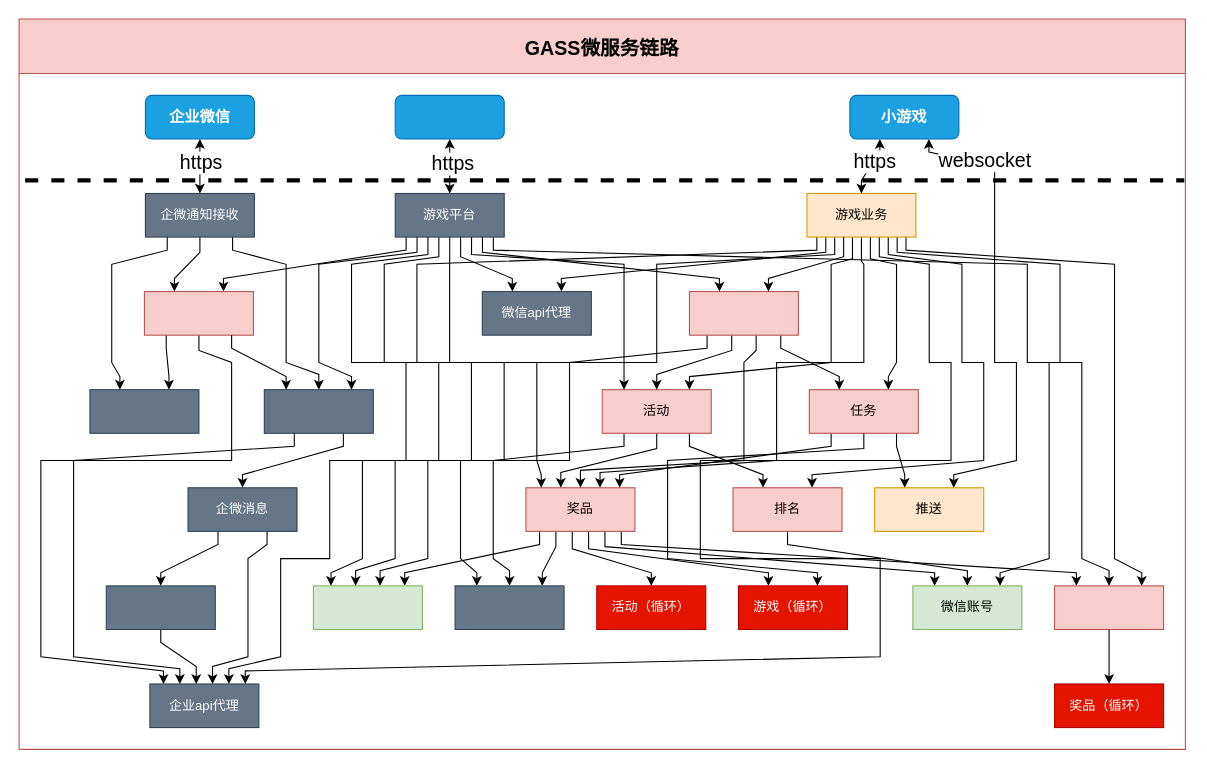
Image size: 1207x768. Some labels were removed from this diagram. The shapes that lost their labels are listed below. From the top down, each one's centre as x and y in pixels, then its label:
[449,116]: 游戏平台web
[198,312]: 企业
[743,312]: 游戏
[144,411]: 企微账号
[318,411]: 员工
[160,607]: 资源服
[367,607]: 道具
[509,607]: 上报
[1108,607]: 代金券
